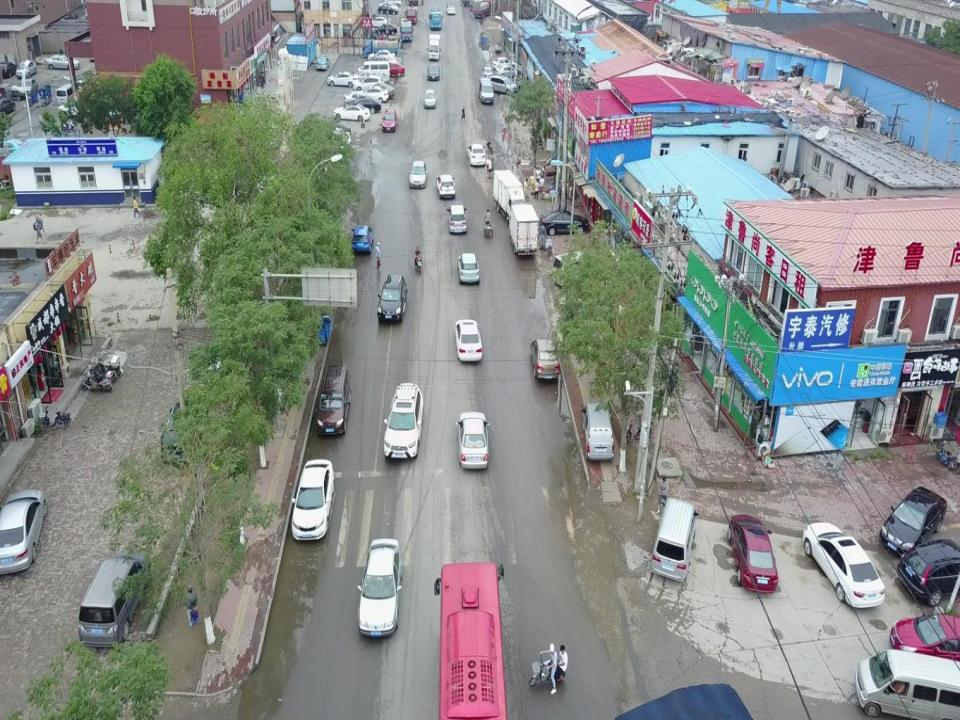bus: (433, 560, 509, 720), (399, 19, 414, 42)
car: (801, 520, 885, 610), (879, 486, 948, 558), (356, 538, 402, 638), (896, 538, 960, 607), (0, 487, 48, 577), (726, 513, 778, 595), (888, 609, 960, 662), (160, 391, 210, 466), (290, 459, 335, 542), (382, 381, 425, 461), (316, 363, 352, 437), (455, 411, 491, 470), (551, 249, 599, 288), (376, 273, 409, 324), (539, 209, 590, 237), (529, 337, 560, 381), (453, 318, 483, 363), (456, 251, 481, 286), (332, 102, 370, 122), (445, 204, 468, 236), (345, 96, 381, 115), (350, 225, 374, 253), (489, 74, 519, 96), (435, 173, 457, 201), (352, 74, 384, 93), (408, 160, 428, 190), (326, 70, 359, 88), (364, 82, 396, 100), (44, 54, 80, 70), (357, 86, 389, 102), (465, 143, 486, 166), (18, 76, 39, 98), (378, 61, 406, 77), (367, 48, 395, 64), (381, 108, 398, 133), (343, 90, 372, 104), (16, 59, 36, 78), (363, 55, 392, 68), (354, 70, 385, 82), (495, 64, 518, 80), (491, 56, 515, 71), (0, 96, 16, 118), (0, 61, 17, 79), (374, 24, 398, 36), (423, 90, 437, 110), (378, 3, 398, 17), (426, 64, 439, 82), (370, 16, 389, 28), (316, 54, 330, 70), (480, 66, 493, 80), (446, 4, 456, 16), (430, 6, 440, 17)
truck: (492, 169, 527, 226), (507, 202, 540, 256), (362, 38, 399, 61), (426, 33, 442, 60), (473, 0, 494, 19), (428, 9, 444, 31), (404, 6, 418, 26)
van: (853, 648, 960, 719), (77, 551, 149, 651), (650, 496, 700, 585), (580, 401, 616, 463), (358, 60, 390, 81), (54, 82, 79, 107), (477, 76, 494, 106)
